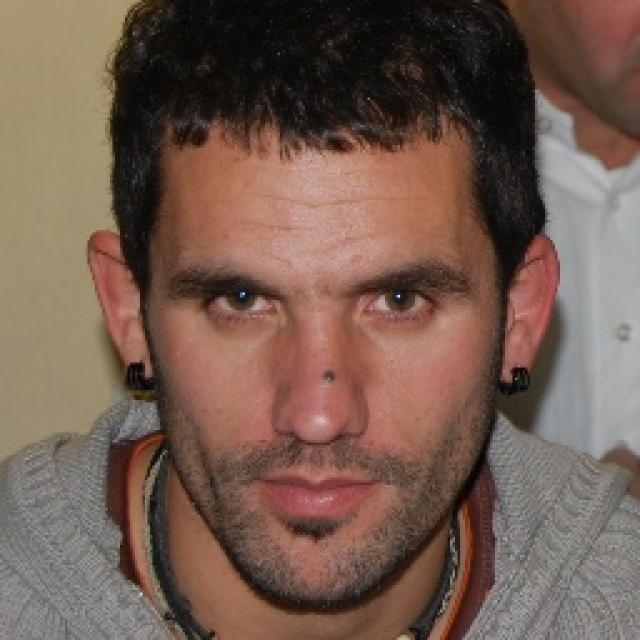earlobe: (86, 230, 160, 384), (498, 232, 562, 386)
